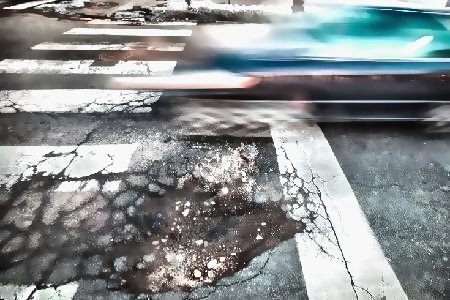pothole: (109, 177, 299, 296)
